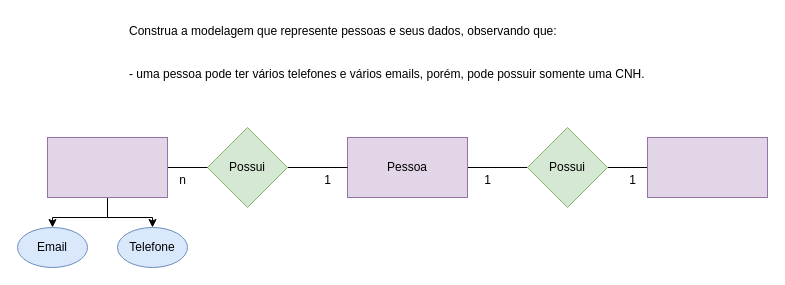
Image size: 785x285. Some labels were removed from this diagram. Here are the shapes that lost their labels. From the top down, the box of each, then its label:
(46, 136, 168, 198): Contatos
(646, 136, 768, 198): CNH
